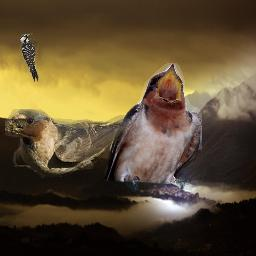Swallow: (105, 63, 202, 192), (5, 109, 134, 178)
Woodpecker: (20, 33, 39, 82)
